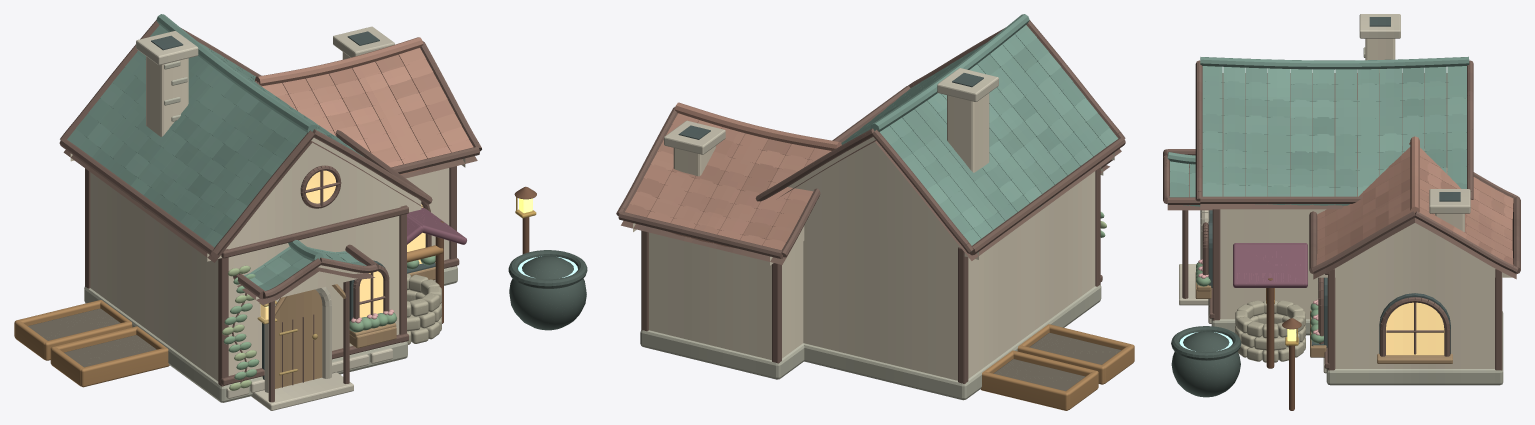
The model's file is village-home.glb.
3 views of the same model, side by side, from view 1: azimuth 30°, elevation 25°; view 2: azimuth 150°, elevation 25°; view 3: azimuth 270°, elevation 25° (orthographic). The views are drawn at different scales.
Visible parts, largest first — view 1: Forest hamlet; view 2: Forest hamlet; view 3: Forest hamlet.
Part boxes in pixels (left/top/right/bottom): Forest hamlet: left=14, top=14, right=587, bottom=410; Forest hamlet: left=616, top=14, right=1134, bottom=410; Forest hamlet: left=1163, top=14, right=1520, bottom=410.
Size of the model in its own units: 8.55 by 5.25 by 6.68.
28 materials, 28 textured.
